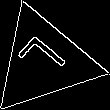L_SE: (14, 33, 74, 89)
